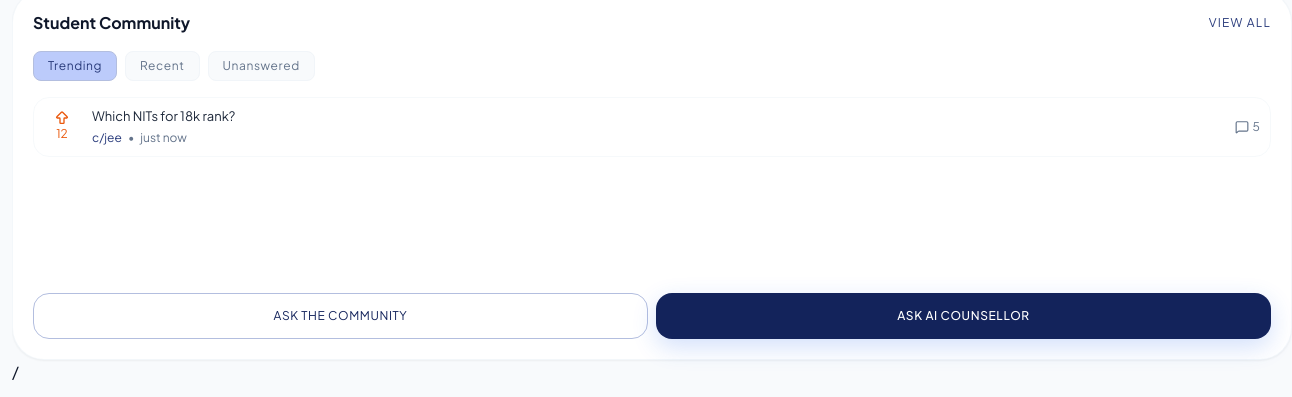
Community card on the home page › shows live posts per tab and links each one to its discussion
The width and height of the screenshot is (1292, 397).
Step 1. Click the tab "Unanswered" → (261, 66), box [208,51,315,81]
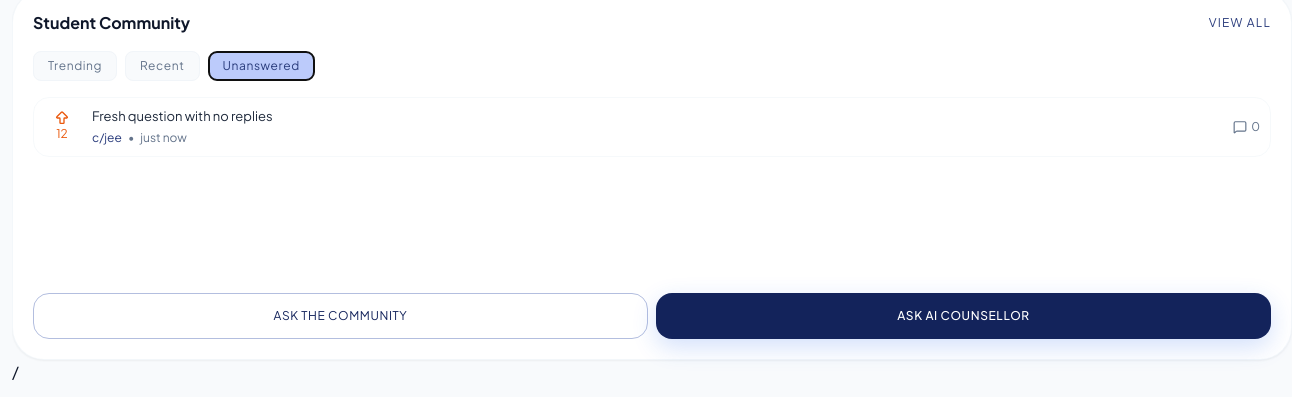
Expected: the text "Answered recently" is not shown
Expected: the link "12 Fresh question with no replies c/jee • just now 0" has attribute href="/community/post/2", [33,97,1271,157]
Step 2. Click the tab "Recent" → (162, 66), box [125,51,200,81]
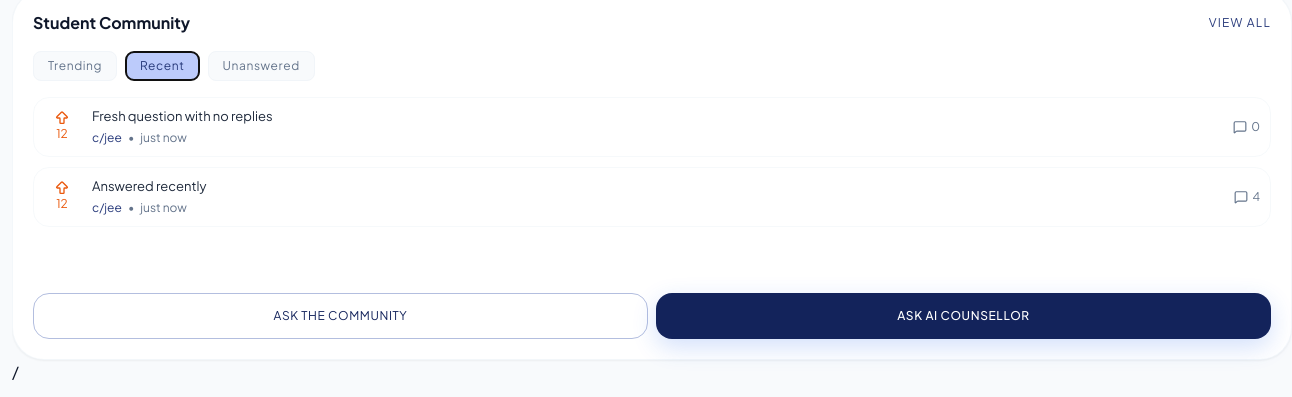
Expected: the text "Answered recently" is shown, [92,178,206,194]
